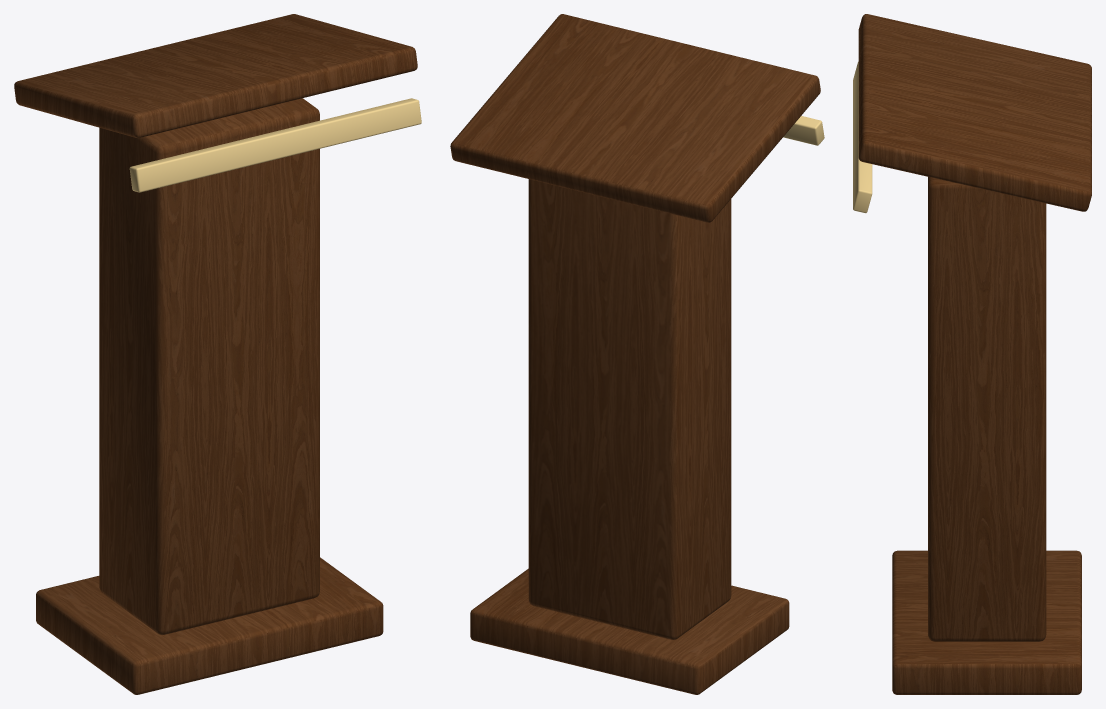
File: lectern.glb
3 views of the same model, side by side, from view 1: azimuth 30°, elevation 25°; view 2: azimuth 150°, elevation 25°; view 3: azimuth 270°, elevation 25° (orthographic). The views are drawn at different scales.
Visible parts, largest first — view 1: Lectern_Column, Lectern_Top, Lectern_Base, Lectern_Lip; view 2: Lectern_Column, Lectern_Top, Lectern_Base, Lectern_Lip; view 3: Lectern_Column, Lectern_Top, Lectern_Base, Lectern_Lip.
Boxes of the visible parts, left/top/right/bottom form: Lectern_Column: left=99, top=98, right=319, bottom=634; Lectern_Top: left=14, top=14, right=417, bottom=137; Lectern_Base: left=36, top=557, right=383, bottom=694; Lectern_Lip: left=129, top=98, right=421, bottom=192; Lectern_Column: left=528, top=179, right=731, bottom=639; Lectern_Top: left=450, top=14, right=820, bottom=222; Lectern_Base: left=470, top=568, right=789, bottom=694; Lectern_Lip: left=783, top=116, right=824, bottom=145; Lectern_Column: left=928, top=177, right=1046, bottom=641; Lectern_Top: left=858, top=14, right=1091, bottom=211; Lectern_Base: left=892, top=550, right=1081, bottom=694; Lectern_Lip: left=853, top=61, right=872, bottom=213.
Bounding box in the file's own units: 0.52 × 1.05 × 0.4032.
2 materials, 1 textured.
